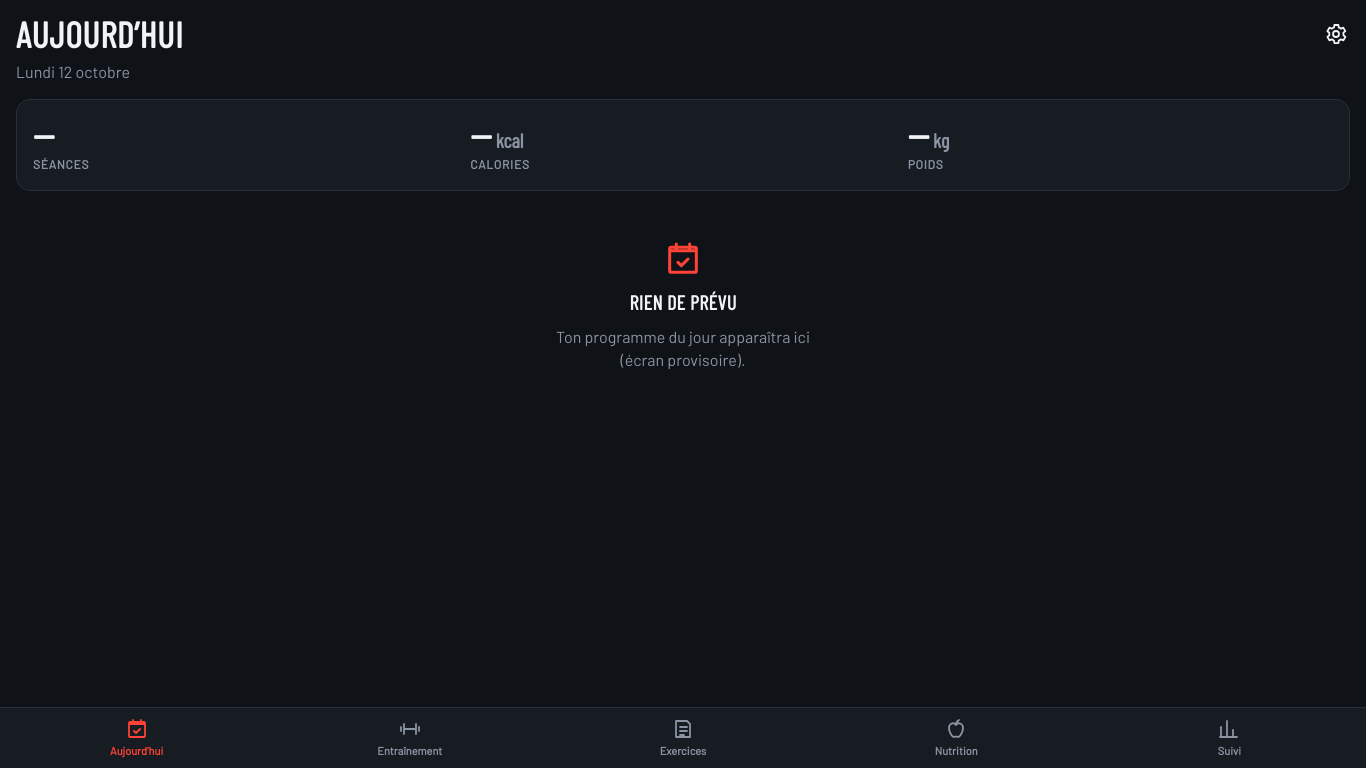
Coque de l'application › chaque onglet ouvre son écran
Click the link "Entraînement": coordinates (410, 737) [377,717,442,757]
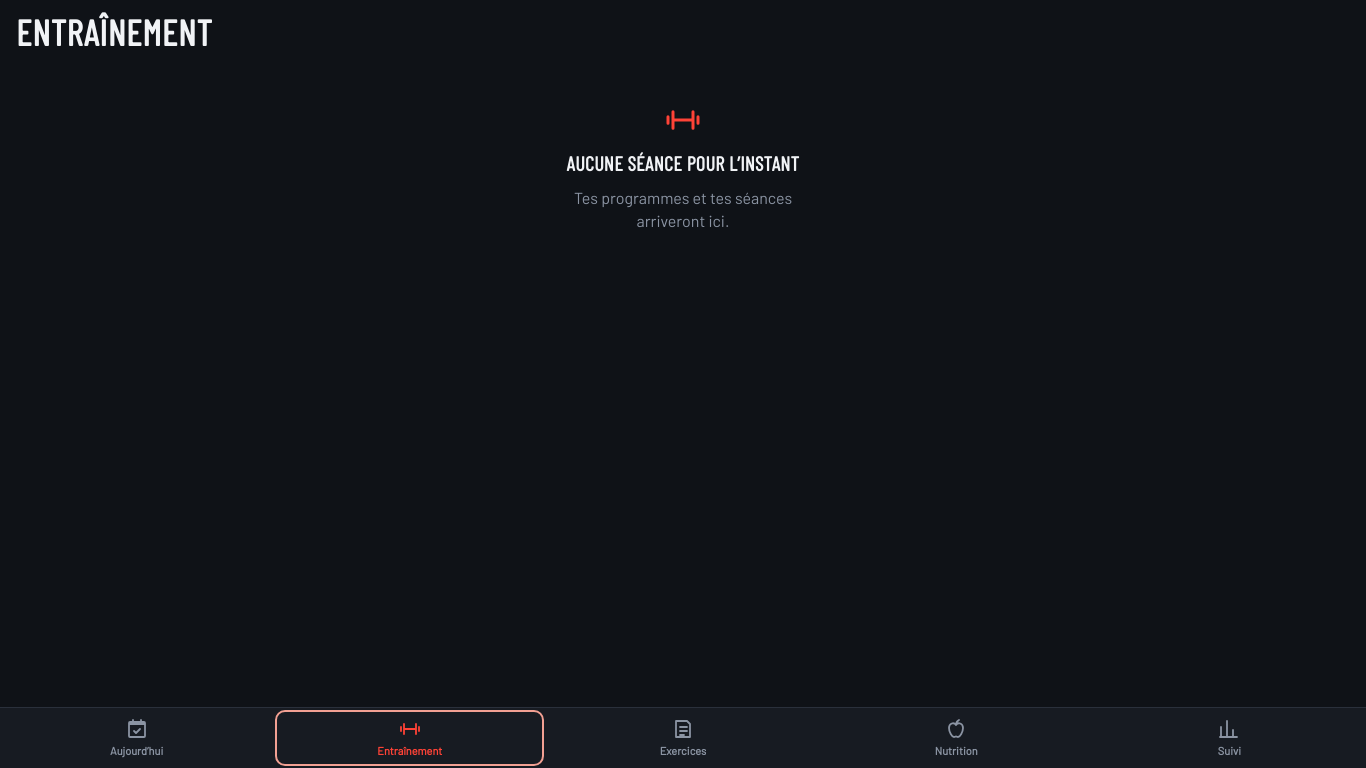
Expected: the heading "Entraînement" is shown, [16,10,212,53]
Click the link "Exercices": coordinates (683, 737) [660,717,706,757]
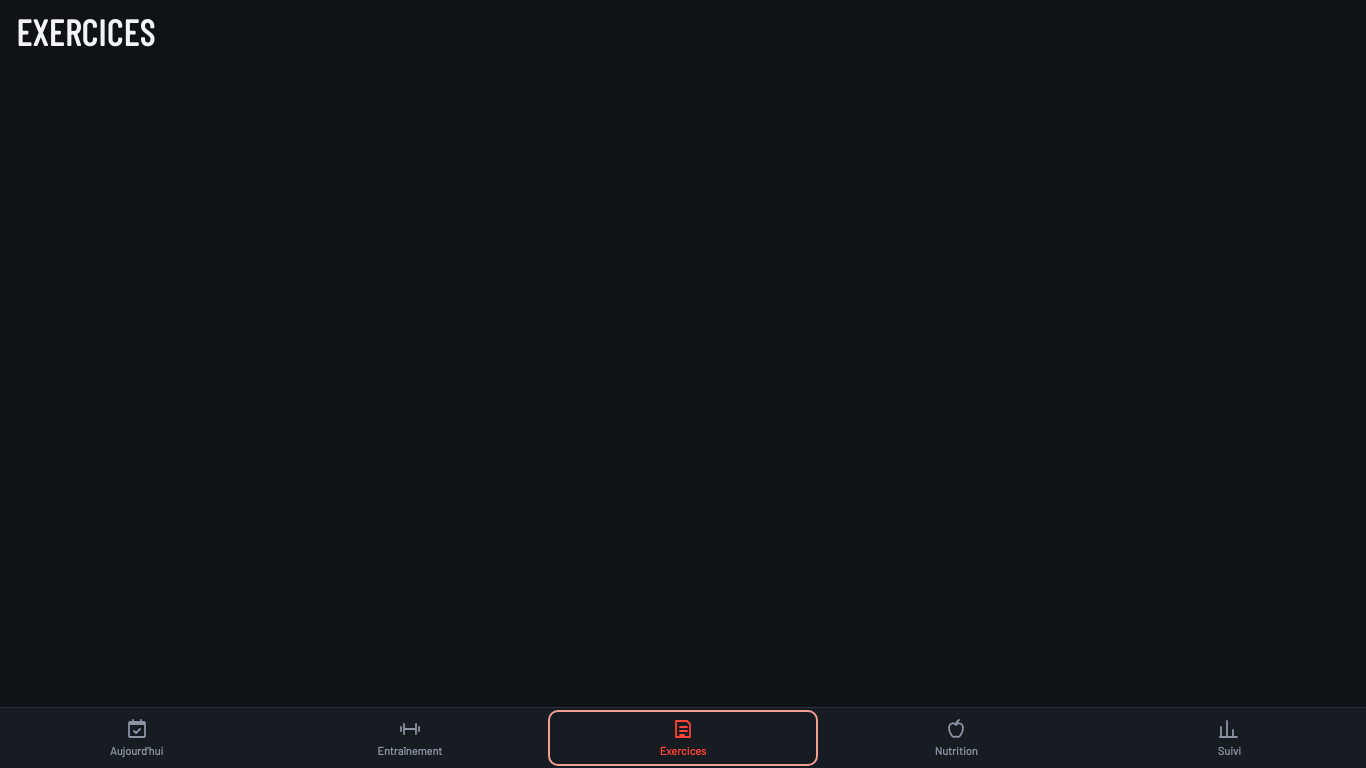
Expected: the heading "Exercices" is shown, [16,10,155,53]
Click the link "Nutrition": coordinates (956, 737) [935,717,978,757]
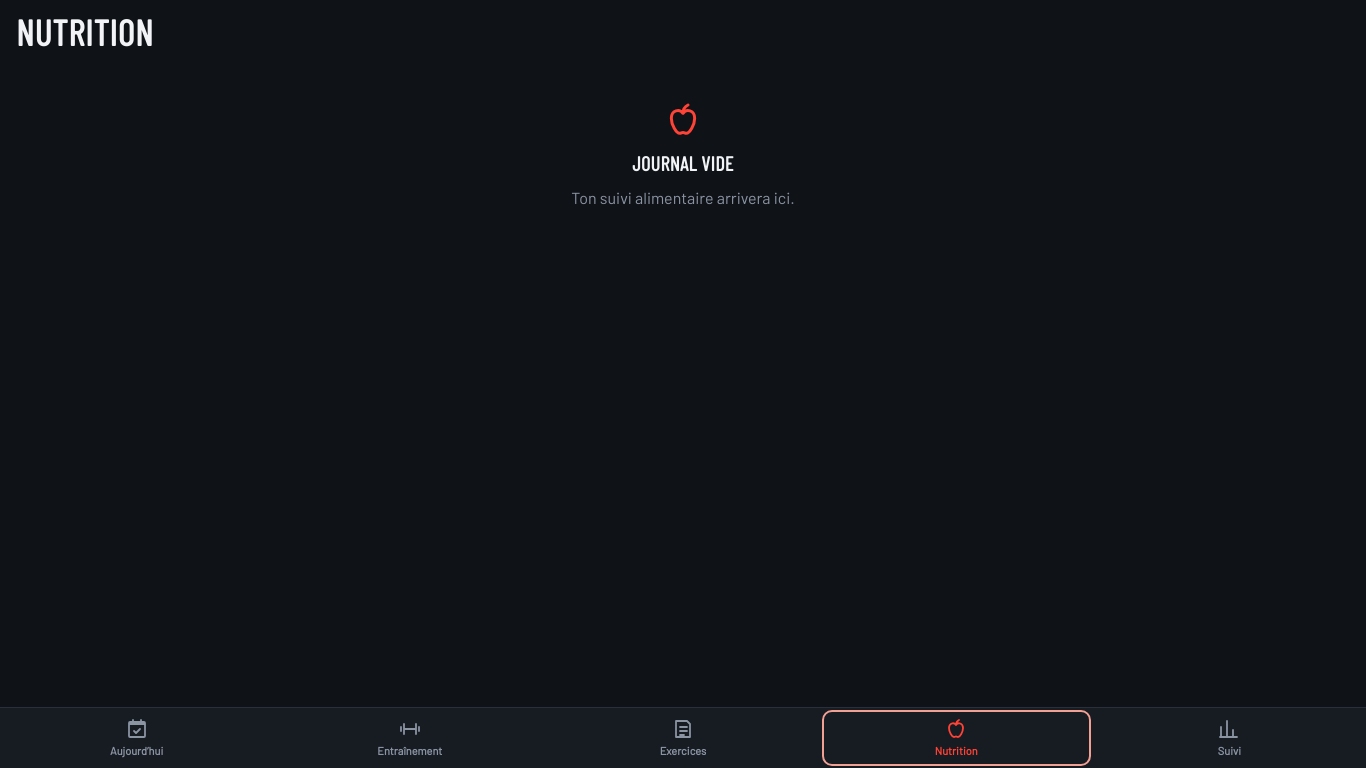
Expected: the heading "Nutrition" is shown, [16,10,153,53]
Click the link "Suivi": coordinates (1229, 737) [1217,717,1241,757]
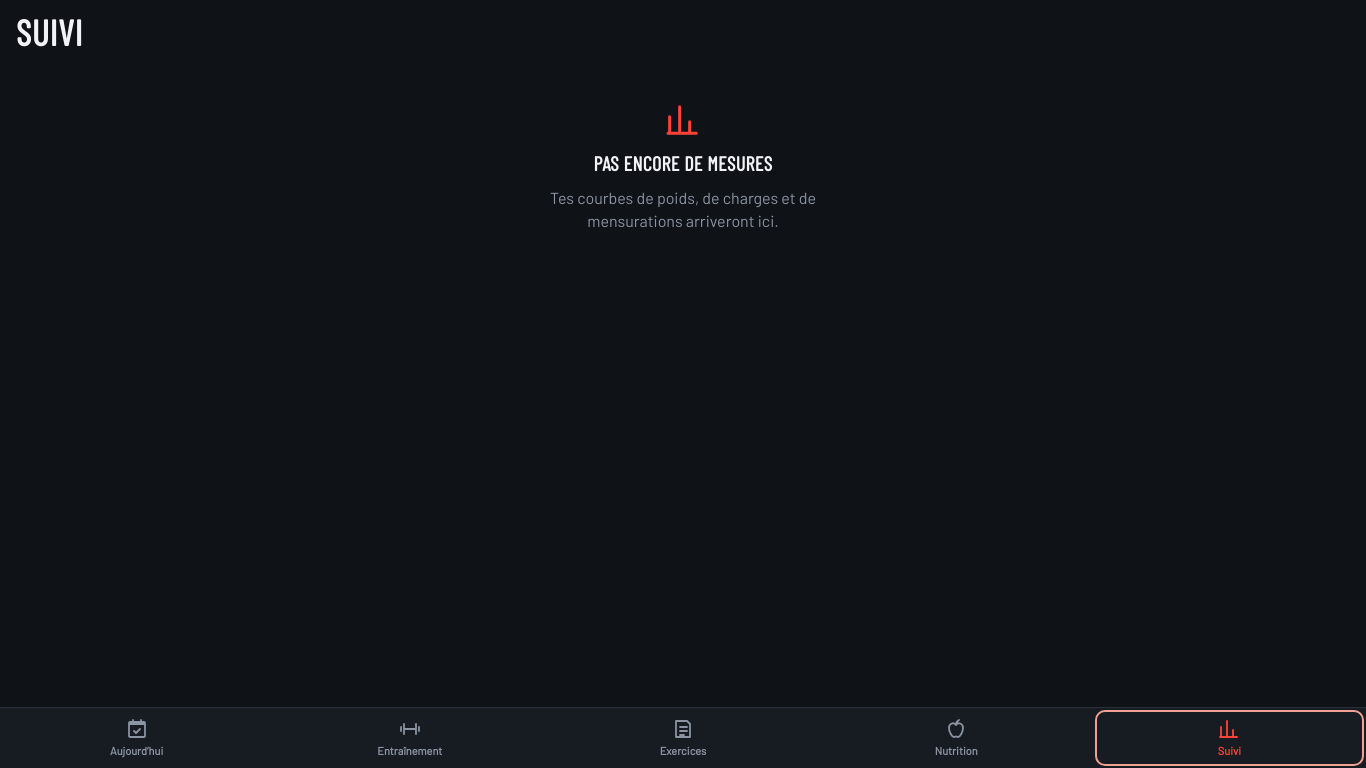
Expected: the heading "Suivi" is shown, [16,10,83,53]
Click the link "Aujourd’hui": coordinates (137, 737) [110,717,163,757]
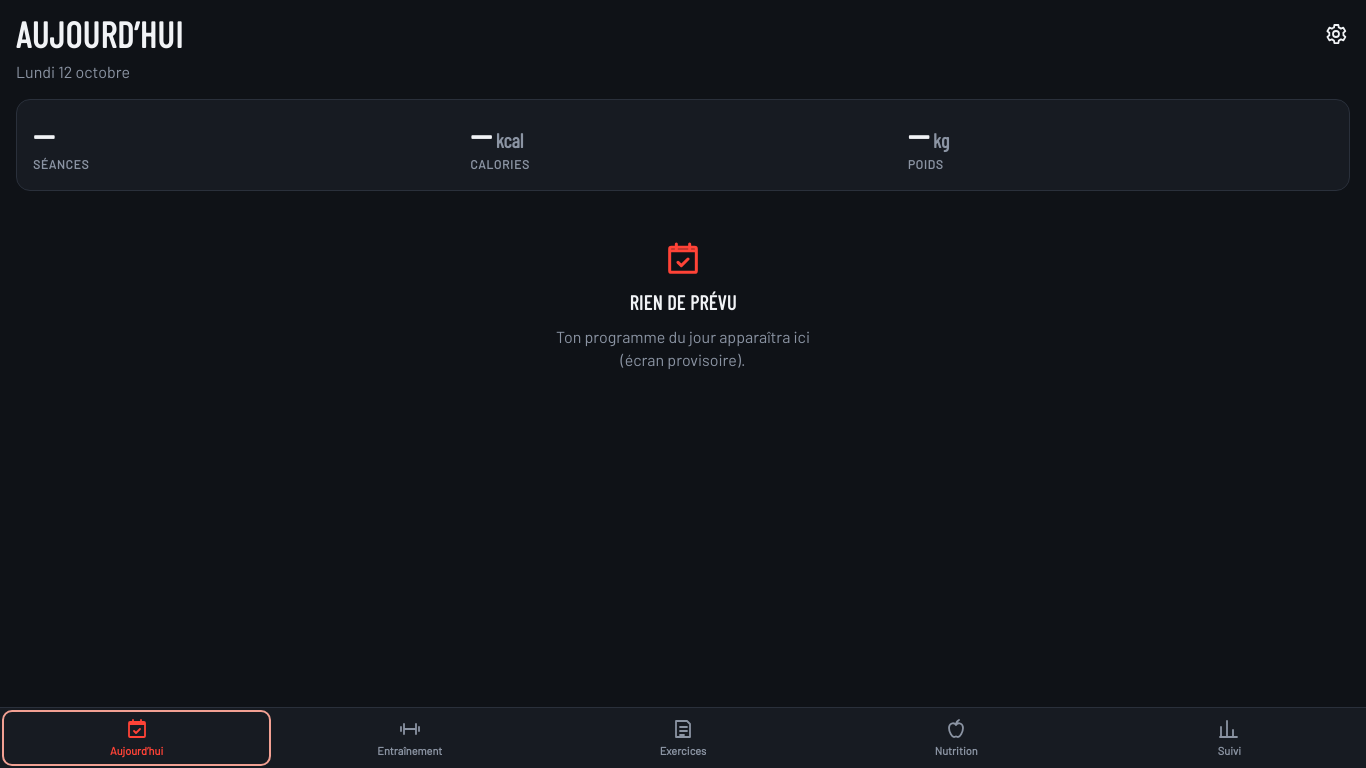
Expected: the heading "Aujourd’hui" is shown, [16,12,183,55]
